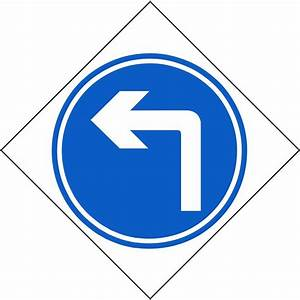left: (53, 54, 250, 251)
